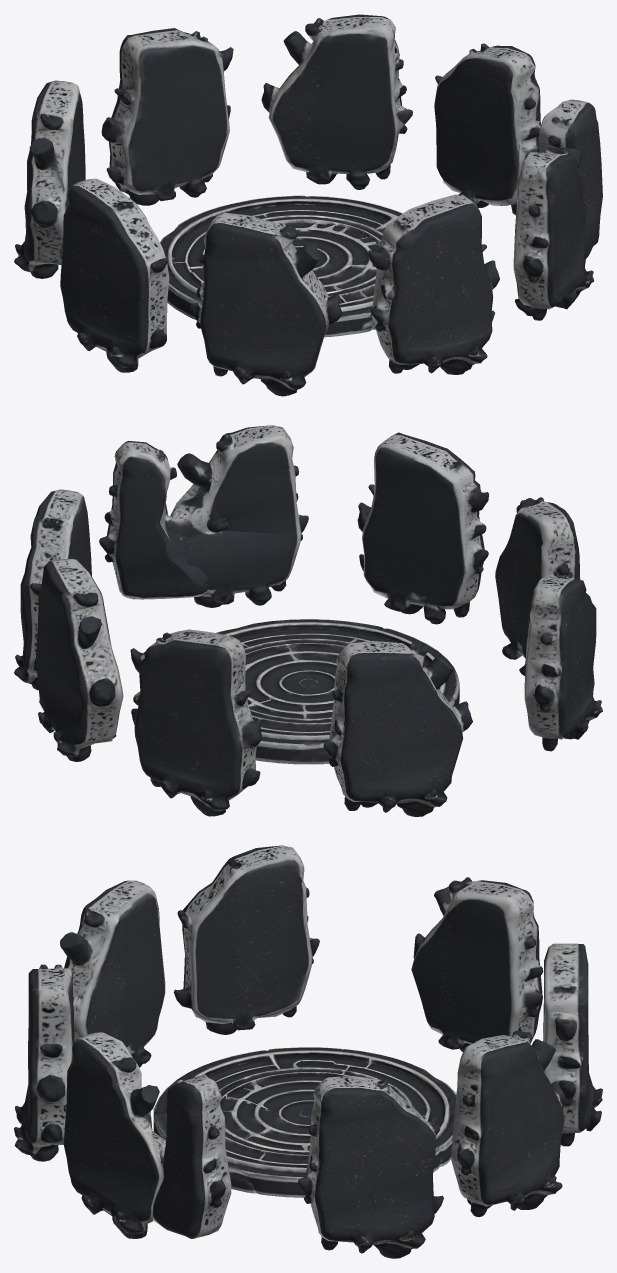
File: standing-stone-ring.glb
3 renders of one model, top to bottom at view 1: azimuth 30°, elevation 25°; view 2: azimuth 150°, elevation 25°; view 3: azimuth 270°, elevation 25°, orthographic. The views are drawn at different scales.
Visible parts, largest first — view 1: tripo_node_551e98bc-d5f2-40c7-9fc0-5926b58b32da; view 2: tripo_node_551e98bc-d5f2-40c7-9fc0-5926b58b32da; view 3: tripo_node_551e98bc-d5f2-40c7-9fc0-5926b58b32da.
Part boxes in pixels (x1,y1,x2,y2): tripo_node_551e98bc-d5f2-40c7-9fc0-5926b58b32da: (14,14,602,396); tripo_node_551e98bc-d5f2-40c7-9fc0-5926b58b32da: (14,425,602,816); tripo_node_551e98bc-d5f2-40c7-9fc0-5926b58b32da: (14,845,602,1258).
Size of the model in its own units: 0.9995 by 0.3208 by 0.9722.
Materials: 1 (1 with a texture image).
